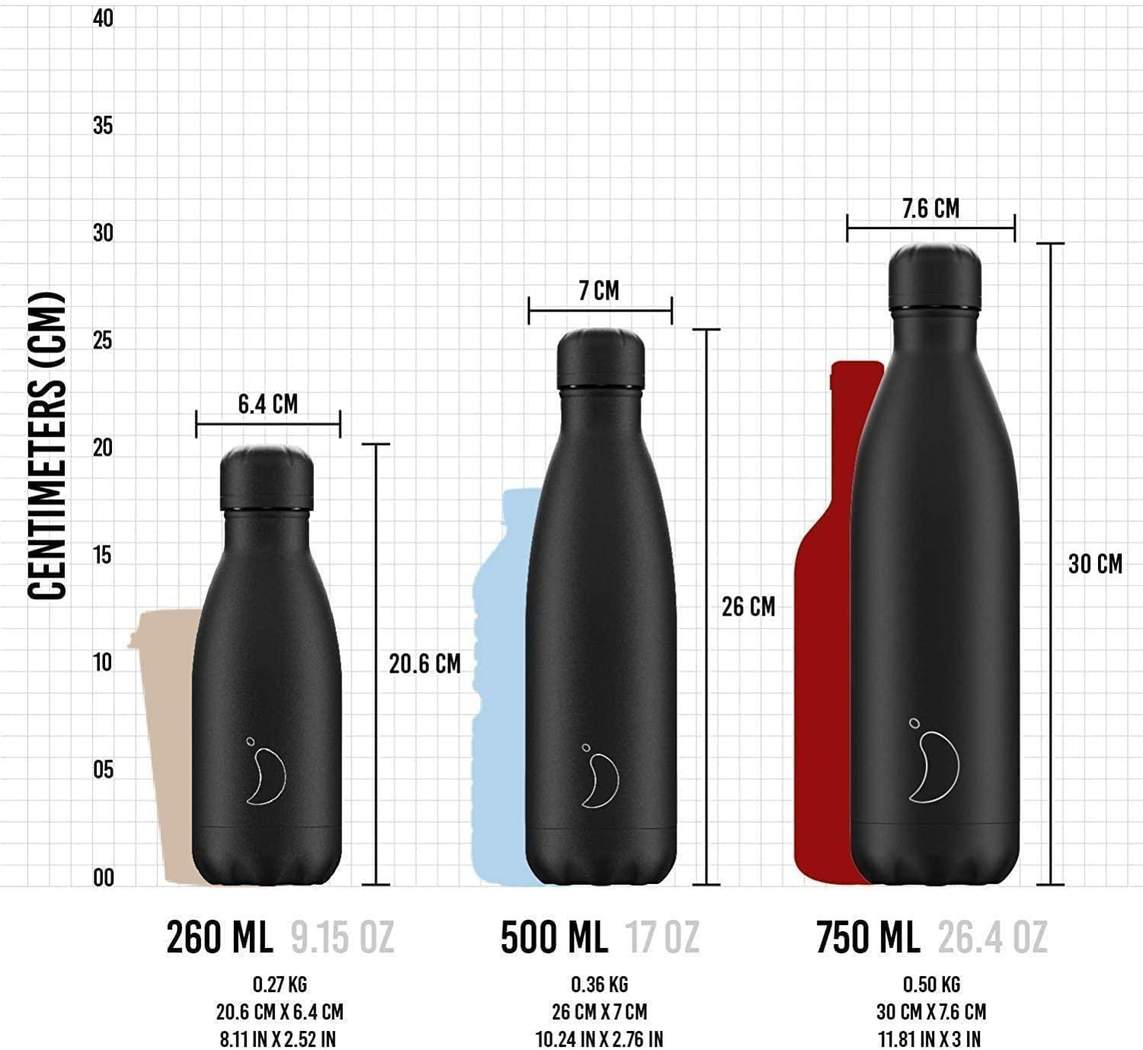gym bottle: (846, 240, 1026, 889), (519, 324, 684, 888), (187, 443, 346, 888)
